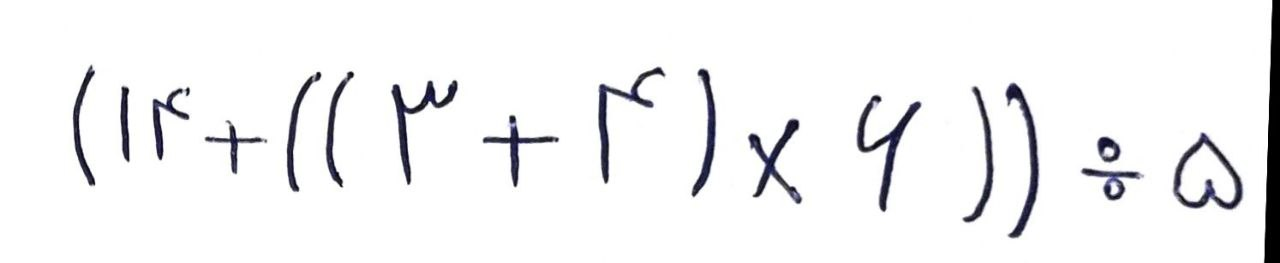character: (598, 67, 668, 184), (856, 94, 921, 212), (393, 82, 463, 185), (1004, 84, 1041, 241), (481, 114, 556, 187), (1175, 132, 1242, 211), (961, 85, 996, 222), (749, 119, 802, 202), (286, 70, 321, 192), (1079, 137, 1143, 201), (692, 69, 719, 196), (324, 72, 354, 185), (204, 120, 264, 174), (72, 63, 97, 185), (154, 87, 192, 164), (120, 87, 132, 164)
